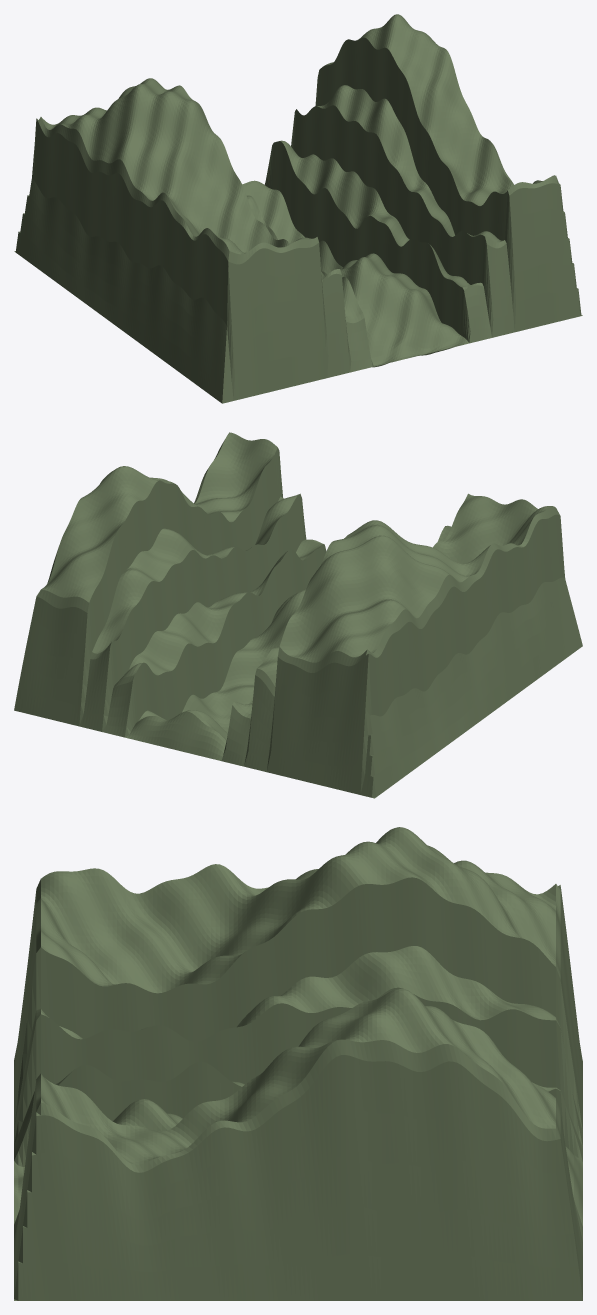
The model's file is amber_wheat_terraces_west.obj.
The picture shows the model from 3 angles, top to bottom: view 1: azimuth 30°, elevation 25°; view 2: azimuth 150°, elevation 25°; view 3: azimuth 270°, elevation 25°; orthographic projection. The views are drawn at different scales.
Visible parts, largest first — view 1: amber_wheat_terraces_west; view 2: amber_wheat_terraces_west; view 3: amber_wheat_terraces_west.
Boxes of the visible parts, x1=… form: amber_wheat_terraces_west: x1=14, y1=14, x2=582, y2=403; amber_wheat_terraces_west: x1=14, y1=432, x2=582, y2=798; amber_wheat_terraces_west: x1=14, y1=827, x2=582, y2=1300.
Bounding box in the file's own units: 28 × 19.61 × 28.
